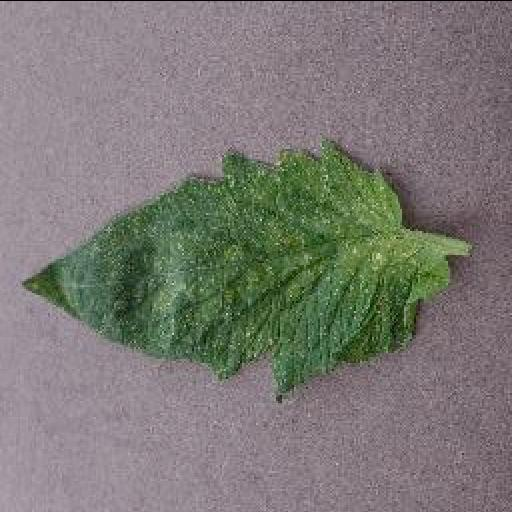disease_tomato: (17, 142, 451, 398)
